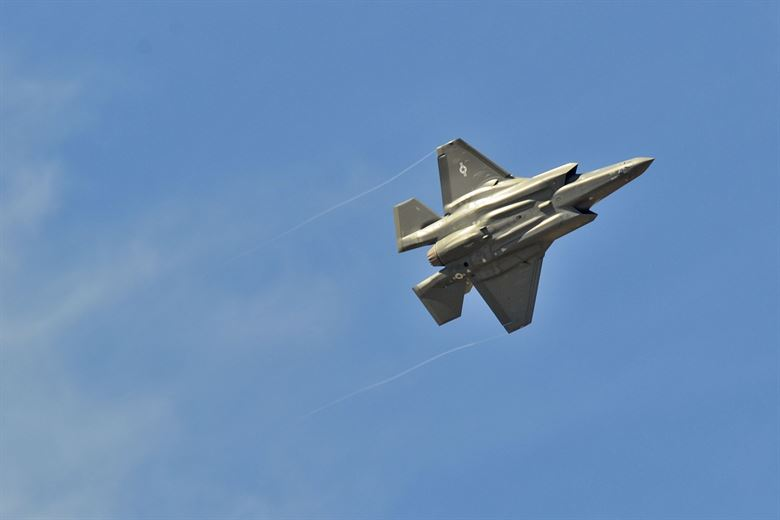F-35 Lightning: (382, 118, 663, 354)
